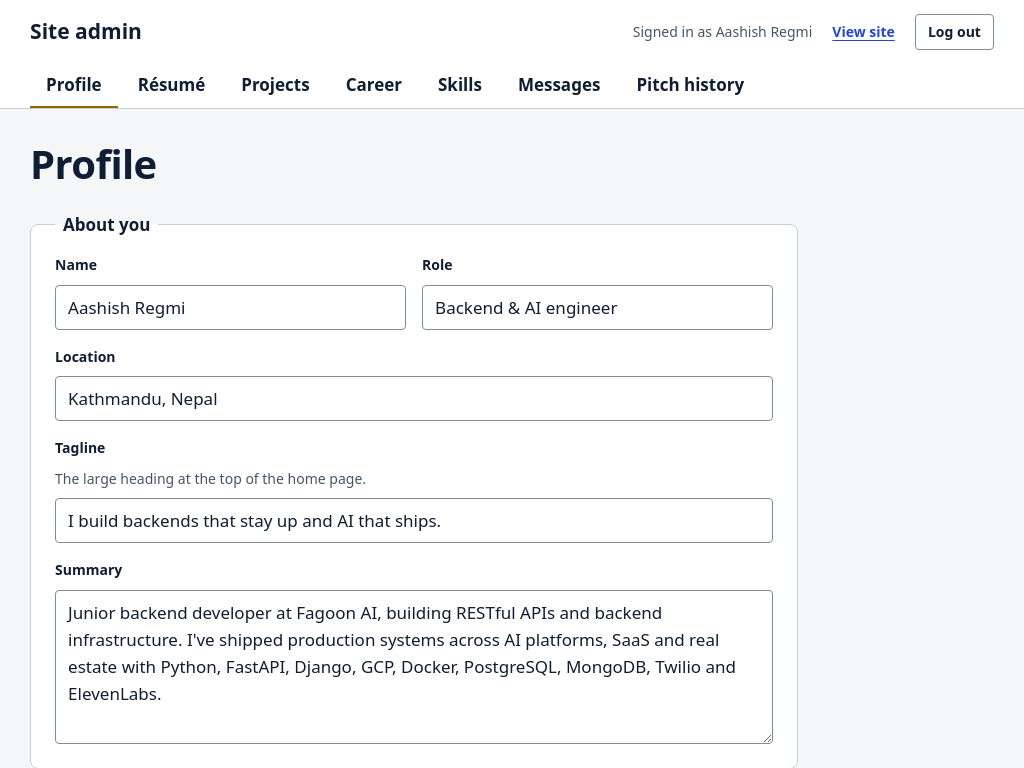
Scenario: admin session › returns to the login form when the session expires mid-edit
Step 1. Replace the text in the field labelled "Tagline" with "A new tagline." → (414,521), box [55,498,773,543]
(page scrolled)
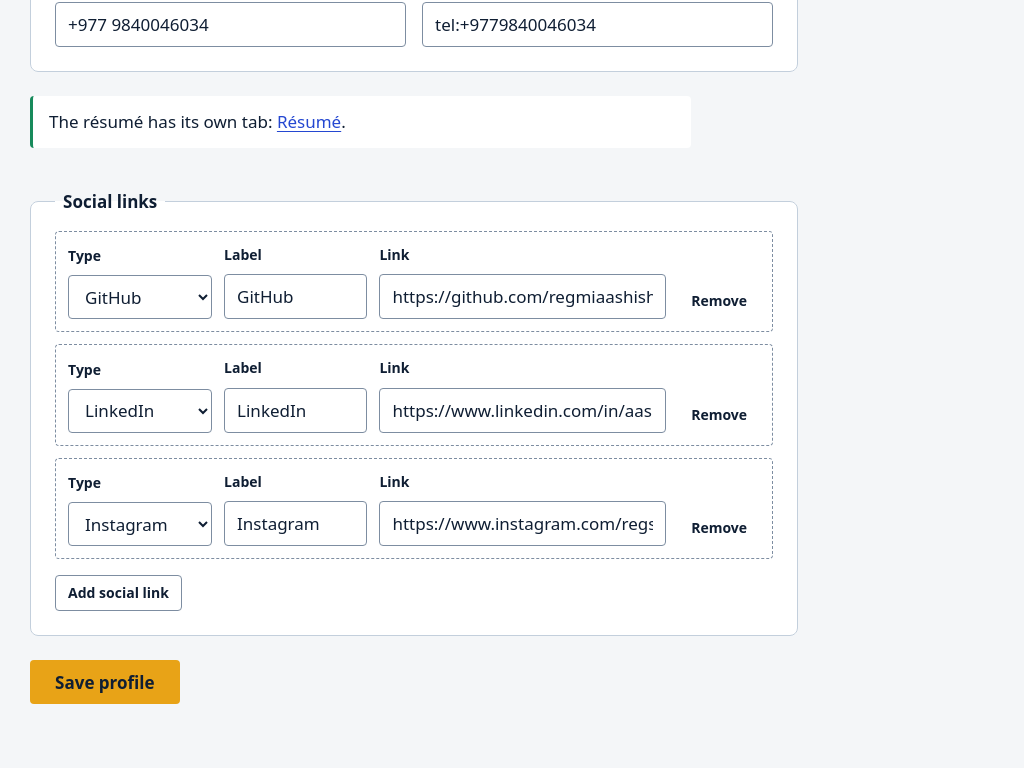
Step 2. Click the button "Save profile" → (105,682), box [30,660,180,704]
(page scrolled)
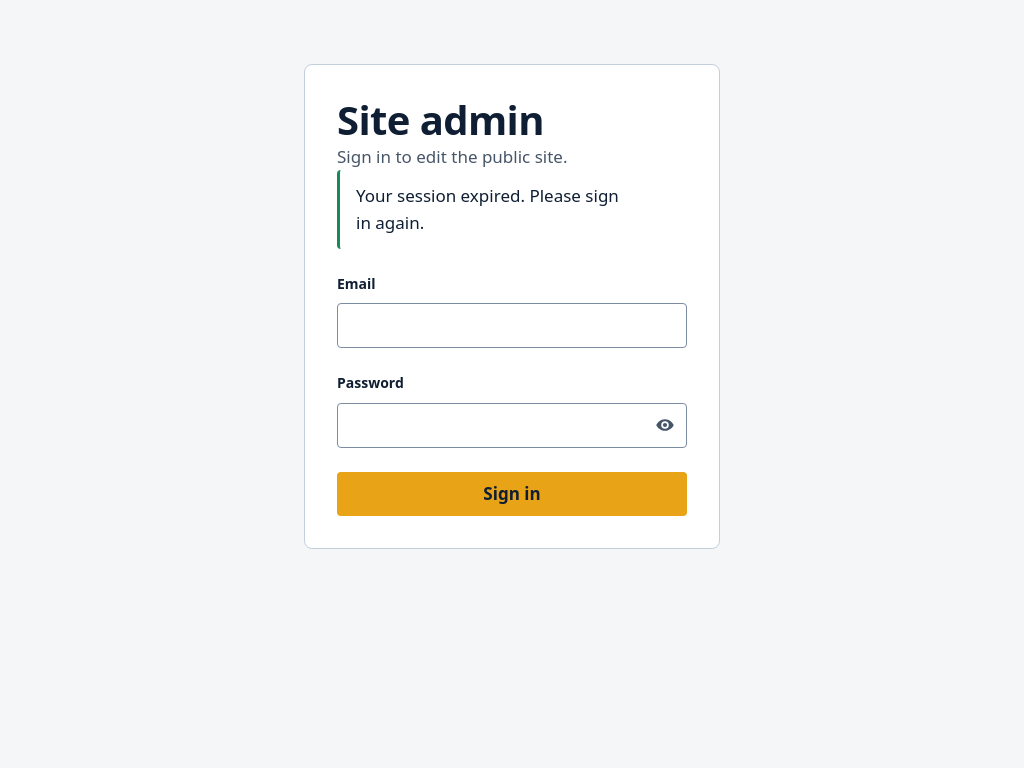
Expected: the text "Your session expired. Please sign in again." is shown, [337,170,687,249]
Expected: the field labelled "Email" is shown, [337,303,687,348]
